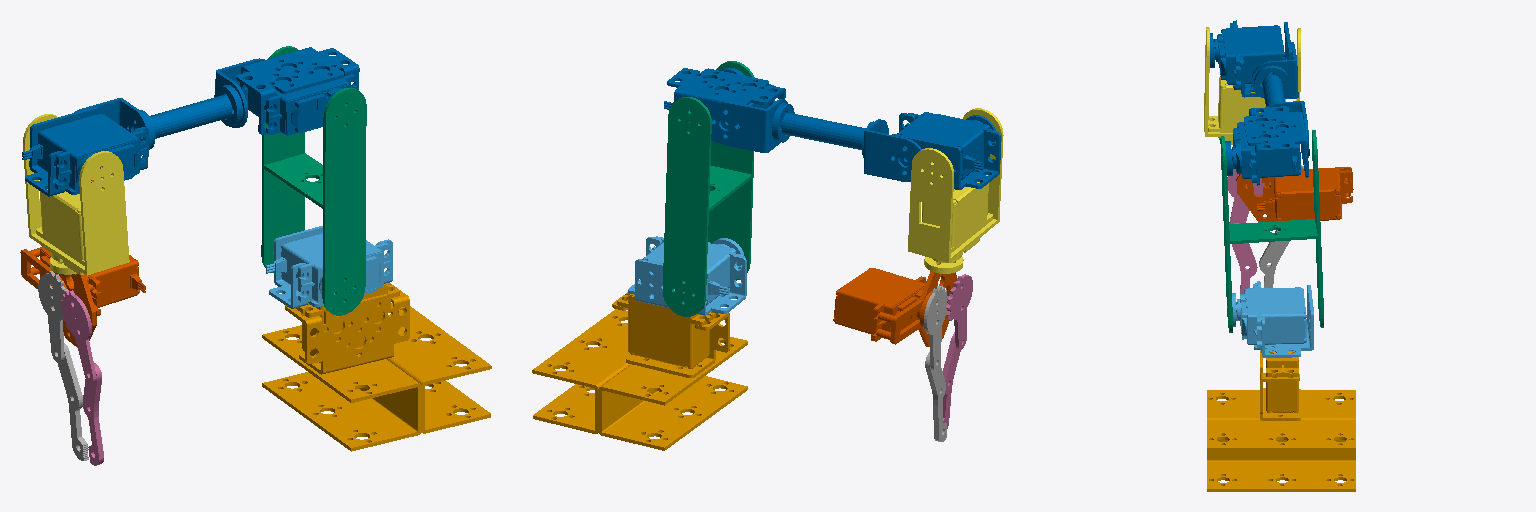
robot.urdf — union_robot_pinzaNodo:
<?xml version='1.0' encoding='utf-8'?>
<robot name="union_robot_pinzaNodo">
    <link name="base_link">
        <inertial>
            <origin xyz="0.03426916557558085 -0.06254336220507926 0.07555118540058695" rpy="0.0 0.0 0.0" />
            <mass value="0.5761092619103262" />
            <inertia ixx="0.0004916393688886448" iyy="0.0005016815044919009" izz="0.0004146582104320707" ixy="-4.750956367428807e-07" iyz="-1.6400183531703472e-07" ixz="0.00010333799461570274" />
        </inertial>
        <visual name="base_link_visual">
            <origin xyz="0.0 0.0 0.0" rpy="0.0 0.0 0.0" />
            <geometry>
                <mesh filename="package://union_robot_description/meshes/base_link.stl" scale="0.001 0.001 0.001" />
            </geometry>
        </visual>
        <collision name="base_link_collision">
            <origin xyz="0.0 0.0 0.0" rpy="0.0 0.0 0.0" />
            <geometry>
                <mesh filename="package://union_robot_description/meshes/base_link.stl" scale="0.001 0.001 0.001" />
            </geometry>
        </collision>
    </link>
    <link name="link_1">
        <inertial>
            <origin xyz="-0.00023146591323472743 -0.006196515797733522 0.00900558516822306" rpy="0.0 -0.0 0.0" />
            <mass value="0.2920074193276514" />
            <inertia ixx="5.6974903440320385e-05" iyy="5.779781879667635e-05" izz="9.028826703870257e-05" ixy="-2.5850558200049122e-06" iyz="1.4702471805997167e-06" ixz="6.202530811053389e-08" />
        </inertial>
        <visual name="link_1_visual">
            <origin xyz="-0.9725101079405449 0.8909852672181381 -1.1027198766015625" rpy="7.612357902935896e-19 3.920598689018956e-19 0.03950442199253035" />
            <geometry>
                <mesh filename="package://union_robot_description/meshes/link_1.stl" scale="0.001 0.001 0.001" />
            </geometry>
        </visual>
        <collision name="link_1_collision">
            <origin xyz="-0.9725101079405449 0.8909852672181381 -1.1027198766015625" rpy="7.612357902935896e-19 3.920598689018956e-19 0.03950442199253035" />
            <geometry>
                <mesh filename="package://union_robot_description/meshes/link_1.stl" scale="0.001 0.001 0.001" />
            </geometry>
        </collision>
    </link>
    <link name="link_2">
        <inertial>
            <origin xyz="0.002623063257130219 0.052057232627239894 0.024031553637593" rpy="0.0 -9.622294280808852e-19 0.0" />
            <mass value="0.11509832437912562" />
            <inertia ixx="0.00019521196768038576" iyy="8.303924576446029e-05" izz="0.00012507426230614211" ixy="-1.9115410474860383e-06" iyz="2.8816074173950005e-06" ixz="-6.208807658524118e-06" />
        </inertial>
        <visual name="link_2_visual">
            <origin xyz="0.6121566431044781 -0.7245944117506241 0.5597941171563283" rpy="1.6356872992608087 -0.0753705342296691 3.140405523684109" />
            <geometry>
                <mesh filename="package://union_robot_description/meshes/link_2.stl" scale="0.001 0.001 0.001" />
            </geometry>
        </visual>
        <collision name="link_2_collision">
            <origin xyz="0.6121566431044781 -0.7245944117506241 0.5597941171563283" rpy="1.6356872992608087 -0.0753705342296691 3.140405523684109" />
            <geometry>
                <mesh filename="package://union_robot_description/meshes/link_2.stl" scale="0.001 0.001 0.001" />
            </geometry>
        </collision>
    </link>
    <link name="link_4">
        <inertial>
            <origin xyz="-0.0038952857074156457 0.028701936956658507 0.03462773040116499" rpy="0.0 6.938893903907228e-18 0.0" />
            <mass value="0.3027267902973336" />
            <inertia ixx="0.0001359512508103891" iyy="7.609200069225015e-05" izz="8.347062696373585e-05" ixy="-7.719440659762945e-07" iyz="-3.7513694977115072e-06" ixz="6.098666822934256e-06" />
        </inertial>
        <visual name="link_4_visual">
            <origin xyz="0.3441339316315184 0.34624562770776457 -0.3942992741461424" rpy="2.1943060887431827 -1.4684073537559277 -2.1646603646003815" />
            <geometry>
                <mesh filename="package://union_robot_description/meshes/link_4.stl" scale="0.001 0.001 0.001" />
            </geometry>
        </visual>
        <collision name="link_4_collision">
            <origin xyz="0.3441339316315184 0.34624562770776457 -0.3942992741461424" rpy="2.1943060887431827 -1.4684073537559277 -2.1646603646003815" />
            <geometry>
                <mesh filename="package://union_robot_description/meshes/link_4.stl" scale="0.001 0.001 0.001" />
            </geometry>
        </collision>
    </link>
    <link name="link_3">
        <inertial>
            <origin xyz="0.07473989054209274 -0.002948208489227646 -0.02385327695209873" rpy="0.0 -2.254532458074769e-36 0.0" />
            <mass value="0.6844061247362784" />
            <inertia ixx="0.00014500281785590196" iyy="0.0027393000503743133" izz="0.002649502399498777" ixy="1.0285694267897066e-05" iyz="-2.2485781529883387e-06" ixz="-0.00014594190639030953" />
        </inertial>
        <visual name="link_3_visual">
            <origin xyz="0.4646159586140998 0.18780820959039152 -0.2695550943408202" rpy="0.057906920815988694 -0.03480056847221125 -1.5728768441067644" />
            <geometry>
                <mesh filename="package://union_robot_description/meshes/link_3.stl" scale="0.001 0.001 0.001" />
            </geometry>
        </visual>
        <collision name="link_3_collision">
            <origin xyz="0.4646159586140998 0.18780820959039152 -0.2695550943408202" rpy="0.057906920815988694 -0.03480056847221125 -1.5728768441067644" />
            <geometry>
                <mesh filename="package://union_robot_description/meshes/link_3.stl" scale="0.001 0.001 0.001" />
            </geometry>
        </collision>
    </link>
    <link name="PinzaBase">
        <inertial>
            <origin xyz="0.010490689269737641 0.02721691412737723 -0.02227322770720713" rpy="-6.938893903907227e-18 -1.0408340855860843e-17 0.0" />
            <mass value="0.28020081436389177" />
            <inertia ixx="6.303710390183343e-05" iyy="9.383808918319999e-05" izz="5.926030599167116e-05" ixy="-8.292809289110208e-06" iyz="1.8348197500805398e-06" ixz="1.0029408308534988e-05" />
        </inertial>
        <visual name="PinzaBase_visual">
            <origin xyz="0.8950893737698631 1.7516911291503983 -2.3437466069736463" rpy="-0.23788712527252495 -0.010111703527214128 -1.2942112249281628" />
            <geometry>
                <mesh filename="package://union_robot_description/meshes/PinzaBase.stl" scale="0.001 0.001 0.001" />
            </geometry>
        </visual>
        <collision name="PinzaBase_collision">
            <origin xyz="0.8950893737698631 1.7516911291503983 -2.3437466069736463" rpy="-0.23788712527252495 -0.010111703527214128 -1.2942112249281628" />
            <geometry>
                <mesh filename="package://union_robot_description/meshes/PinzaBase.stl" scale="0.001 0.001 0.001" />
            </geometry>
        </collision>
    </link>
    <link name="PinzaIzquier">
        <inertial>
            <origin xyz="-0.00360969457314452 -0.003963023305665381 0.02977901264336264" rpy="1.387778780781446e-17 2.168404344971009e-19 1.3552527156068805e-20" />
            <mass value="0.022835696581944787" />
            <inertia ixx="1.7791896907669424e-05" iyy="1.7485213274090282e-05" izz="1.1070873527535675e-06" ixy="-2.1576278196199178e-07" iyz="1.2427911441762142e-06" ixz="2.532634390568359e-06" />
        </inertial>
        <visual name="PinzaIzquier_visual">
            <origin xyz="-2.2705488357334573 1.1830043786312245 1.7699500207222736" rpy="1.2458807756642598 1.1767269603063657 1.2923104850473264" />
            <geometry>
                <mesh filename="package://union_robot_description/meshes/PinzaIzquier.stl" scale="0.001 0.001 0.001" />
            </geometry>
        </visual>
        <collision name="PinzaIzquier_collision">
            <origin xyz="-2.2705488357334573 1.1830043786312245 1.7699500207222736" rpy="1.2458807756642598 1.1767269603063657 1.2923104850473264" />
            <geometry>
                <mesh filename="package://union_robot_description/meshes/PinzaIzquier.stl" scale="0.001 0.001 0.001" />
            </geometry>
        </collision>
    </link>
    <link name="PinzaDerech">
        <inertial>
            <origin xyz="-0.001671854361262657 -0.008240574713878193 0.029353453428458246" rpy="0.0 -2.168404344971009e-19 1.3552527156068805e-20" />
            <mass value="0.022801010196669143" />
            <inertia ixx="1.8422557262731393e-05" iyy="1.6902832775795363e-05" izz="1.8140179411289664e-06" ixy="-4.118476433125812e-07" iyz="4.321419836382856e-06" ixz="1.4216048221166864e-06" />
        </inertial>
        <visual name="PinzaDerech_visual">
            <origin xyz="-2.3678289036927667 2.113856677509141 1.6689229958819873" rpy="0.4603037279066735 1.4996912761702432 0.44045603220510077" />
            <geometry>
                <mesh filename="package://union_robot_description/meshes/PinzaDerech.stl" scale="0.001 0.001 0.001" />
            </geometry>
        </visual>
        <collision name="PinzaDerech_collision">
            <origin xyz="-2.3678289036927667 2.113856677509141 1.6689229958819873" rpy="0.4603037279066735 1.4996912761702432 0.44045603220510077" />
            <geometry>
                <mesh filename="package://union_robot_description/meshes/PinzaDerech.stl" scale="0.001 0.001 0.001" />
            </geometry>
        </collision>
    </link>
    <joint name="joint_1" type="revolute">
        <origin xyz="0.01550063 -0.060415989999999996 0.11637161000000001" rpy="0.0 -0.0 0.0" />
        <parent link="base_link" />
        <child link="link_1" />
        <axis xyz="0.0 0.0 1.0" />
        <limit lower="-1.61" upper="1.56" effort="1000.0" velocity="1.0" />
        <!-- MEFY MODELO zz-->
        <!--<limit effort="1000.0" lower="1.56" upper="4.68" velocity="1.0" />-->
    </joint>
    <joint name="joint_2" type="continuous">
        <origin xyz="-0.00943212 -0.03299828 0.009290009999999996" rpy="1.6007852192249366 0.0005247724399227596 3.1241007910041567" />
        <parent link="link_1" />
        <child link="link_2" />
        <axis xyz="0.03947625046022882 -2.2511566407437678e-06 0.9992209383347277" />
        <!--<limit effort="1000.0" lower="0.0" upper="3.12" velocity="1.0" />-->
    </joint>
    <joint name="joint_3" type="revolute">
        <origin xyz="0.0010465124755054023 0.09976914088710054 -0.00558595713362541" rpy="3.1115888836146315 0.031492404588699056 -0.00042000949635544454" />
        <parent link="link_2" />
        <child link="link_3" />
        <axis xyz="-0.05780208184176218 0.034856000000000005 0.9977189037237685" />
        <limit lower="-2.617994" upper="0.523599" effort="1000.0" velocity="1.0" />

        <!--<limit effort="1000.0" lower="-1.7" upper="1.7" velocity="1.0" />-->

    </joint>
    <joint name="joint_4" type="continuous">
        <origin xyz="0.14827421552582223 -0.0025098799999999956 0.008677851639116323" rpy="-1.5217456708100712 0.016782500439864196 -0.056197914232415914" />
        <parent link="link_3" />
        <child link="link_4" />
        <axis xyz="0.02358227087604743 0.9993529038150621 -0.02717315906794857" />
        <!--<limit effort="1000.0" lower="-1.7" upper="1.7" velocity="1.0" />-->   
    </joint>
    <joint name="joint_5" type="continuous">
        <origin xyz="-0.007803452803396223 0.039140348218358045 0.059412389445543605" rpy="1.439517725760459 0.33272291262178394 1.3383016114408999" />
        <parent link="link_4" />
        <child link="PinzaBase" />
        <axis xyz="0.25257978210415516 -0.9674488638848753 0.015664163753025026" />
        <!--<limit effort="1000.0" lower="-3.17" upper="0.0" velocity="1.0" />-->

    </joint>
    <joint name="joint_6" type="continuous">
        <origin xyz="0.006271556202666409 0.027758964828525308 0.001361506559804475" rpy="-1.3404193993022924 -1.3708160137592054 0.008780321096943149" />
        <parent link="PinzaBase" />
        <child link="PinzaDerech" />
        <axis xyz="-0.9977548734001893 0.020811250130947766 -0.06365030322127199" />
        <!--<limit effort="1000.0" lower="-0.5" upper="0.0" velocity="1.0" />-->
    </joint>
    <joint name="joint_7" type="continuous">
        <origin xyz="-0.017752440686809458 0.02076658645022036 0.007038371240389037" rpy="-1.3403943572722685 -1.3708152603708752 0.00876380199453468" />
        <parent link="PinzaBase" />
        <child link="PinzaIzquier" />
        <axis xyz="-0.9977556549677461 0.020802496323660265 -0.06365135951877947" />
        <!--<limit effort="1000.0" lower="0" upper="-0.5" velocity="1.0" />-->
        <mimic joint="joint_6" multiplier="-1.0" offset="0.0" />
    </joint>
   
</robot>

--- Render facts (derived) ---
3 views of the same robot in one strip: view 1: azimuth 30°, elevation 25°; view 2: azimuth 150°, elevation 25°; view 3: azimuth 270°, elevation 25° (orthographic).
Robot: union_robot_pinzaNodo — 8 links, 7 joints (2 revolute, 5 continuous); root link base_link; default pose: every joint at zero.
Links seen in each view (by area): view 1: base_link, link_3, link_2, link_4, link_1, PinzaBase, PinzaDerech, PinzaIzquier; view 2: base_link, link_3, link_2, link_4, PinzaBase, link_1, PinzaDerech, PinzaIzquier; view 3: base_link, link_3, link_1, PinzaBase, link_2, link_4, PinzaIzquier, PinzaDerech.
Link boxes in pixels (x1,y1,x2,y2): base_link: [262, 283, 491, 451]; link_3: [22, 47, 359, 196]; link_2: [261, 46, 366, 315]; link_4: [23, 114, 129, 275]; link_1: [266, 226, 392, 308]; PinzaBase: [20, 245, 145, 346]; PinzaDerech: [38, 271, 88, 460]; PinzaIzquier: [60, 290, 103, 465]; base_link: [532, 292, 747, 450]; link_3: [664, 67, 1000, 189]; link_2: [663, 61, 754, 316]; link_4: [908, 108, 1003, 273]; PinzaBase: [833, 264, 956, 346]; link_1: [628, 236, 746, 315]; PinzaDerech: [924, 286, 948, 441]; PinzaIzquier: [943, 274, 972, 428]; base_link: [1207, 347, 1355, 491]; link_3: [1210, 20, 1309, 185]; link_1: [1232, 281, 1313, 357]; PinzaBase: [1236, 167, 1353, 221]; link_2: [1220, 130, 1323, 332]; link_4: [1204, 27, 1300, 144]; PinzaIzquier: [1227, 169, 1264, 293]; PinzaDerech: [1259, 165, 1303, 287].
Bounding box of the posed robot: 0.2508 × 0.0916 × 0.2006 m (x, y, z).
8 mesh visuals loaded from 8 distinct referenced files (8 binary STL).